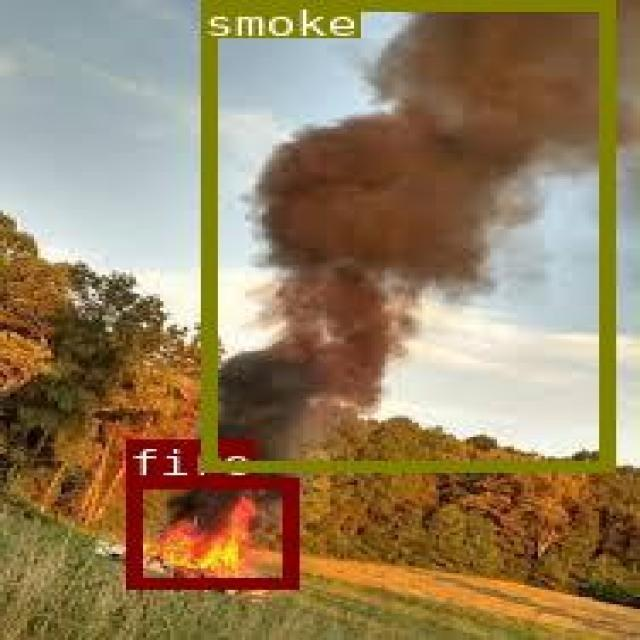fire: (124, 476, 294, 588)
smoke: (197, 0, 609, 470)
